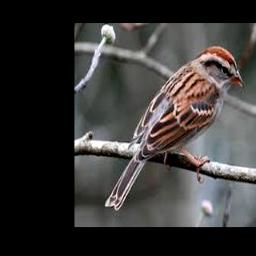Sparrow: (105, 45, 245, 211)
